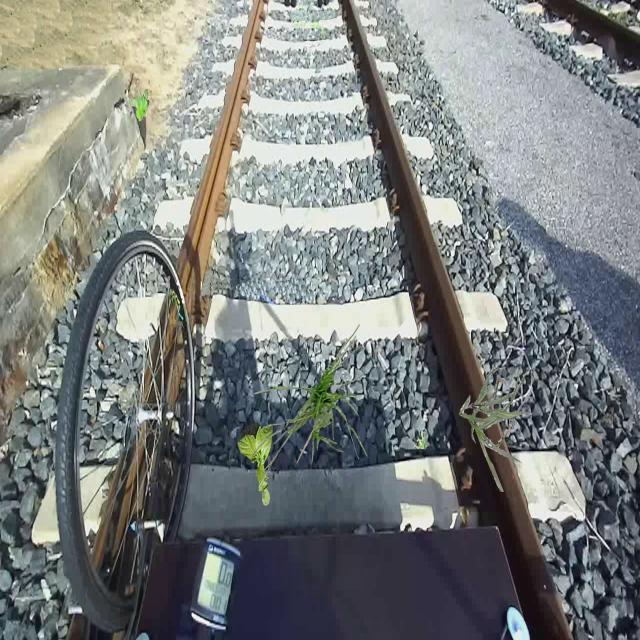Plant: (252, 324, 370, 488), (459, 367, 532, 492), (237, 423, 272, 506), (129, 89, 150, 122), (414, 429, 428, 449)
